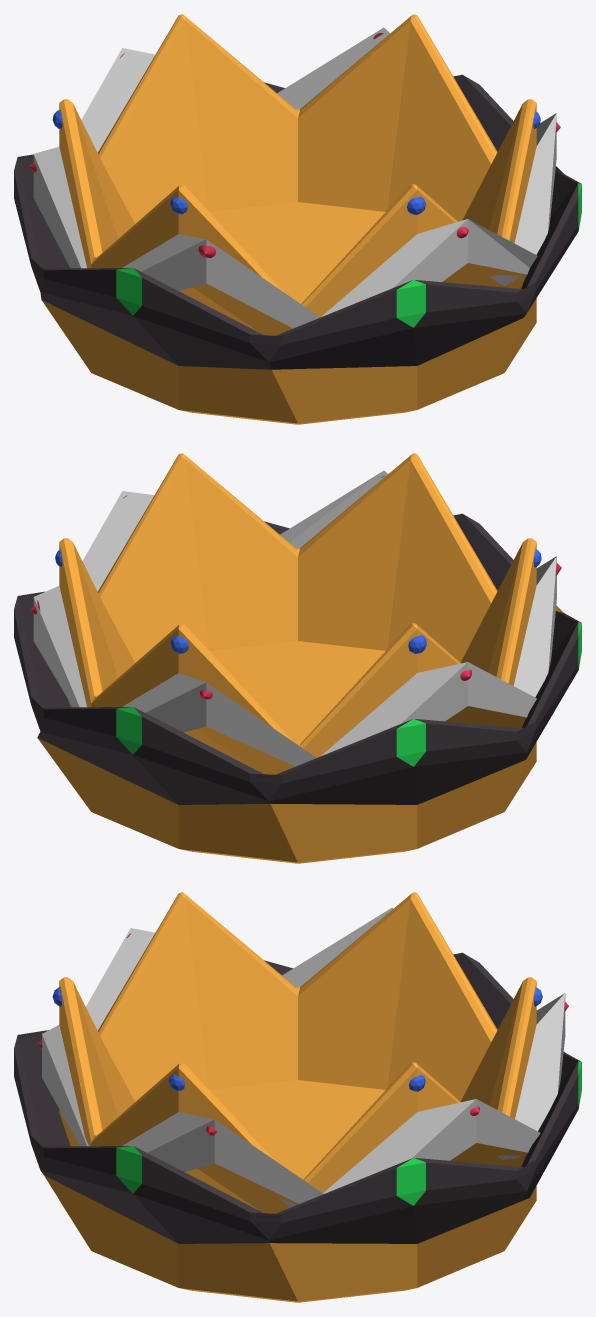
The model's file is Royalty.fbx.
3 views of the same model, one above another, from view 1: azimuth 30°, elevation 25°; view 2: azimuth 150°, elevation 25°; view 3: azimuth 270°, elevation 25° (orthographic).
Parts seen in each view (by area): view 1: Cylinder; view 2: Cylinder; view 3: Cylinder.
Boxes of the visible parts, x1,y1,x2,y2 form: Cylinder: (14,14,581,424); Cylinder: (14,453,581,863); Cylinder: (14,892,581,1302).
Size of the model in its own units: 551 by 250 by 551.
